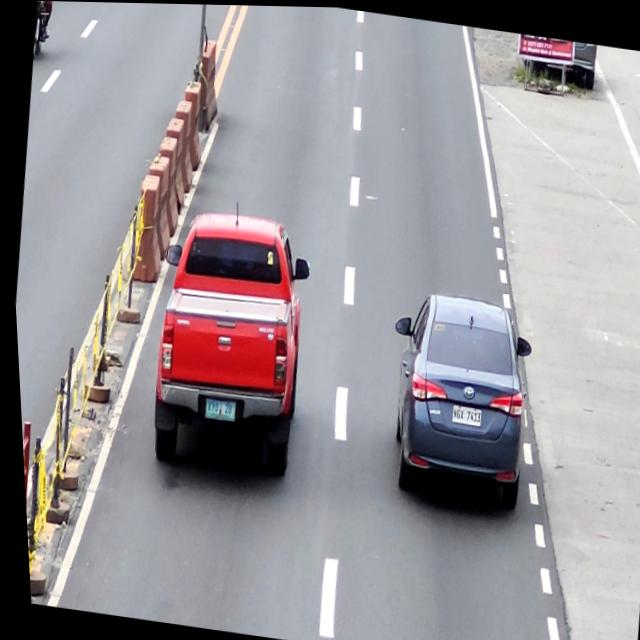Car: (133, 203, 319, 479), (369, 285, 540, 515)
License-Plate: (196, 396, 233, 422), (446, 402, 479, 426)
